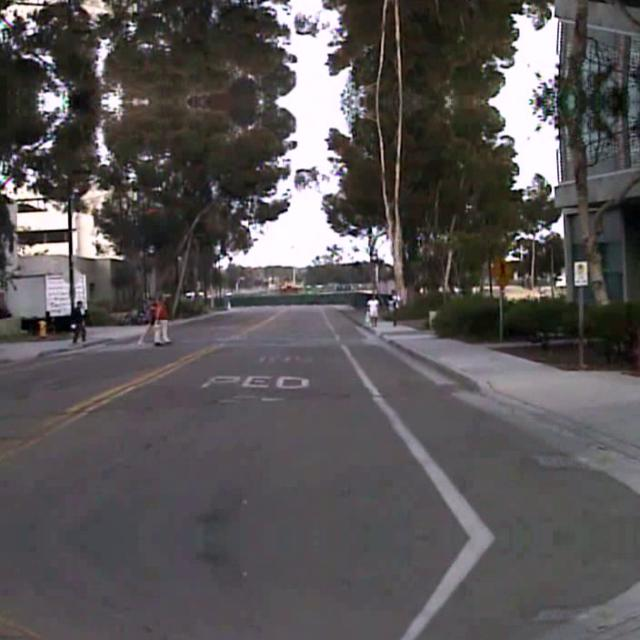pedestrianCrossing: (488, 254, 514, 286)
